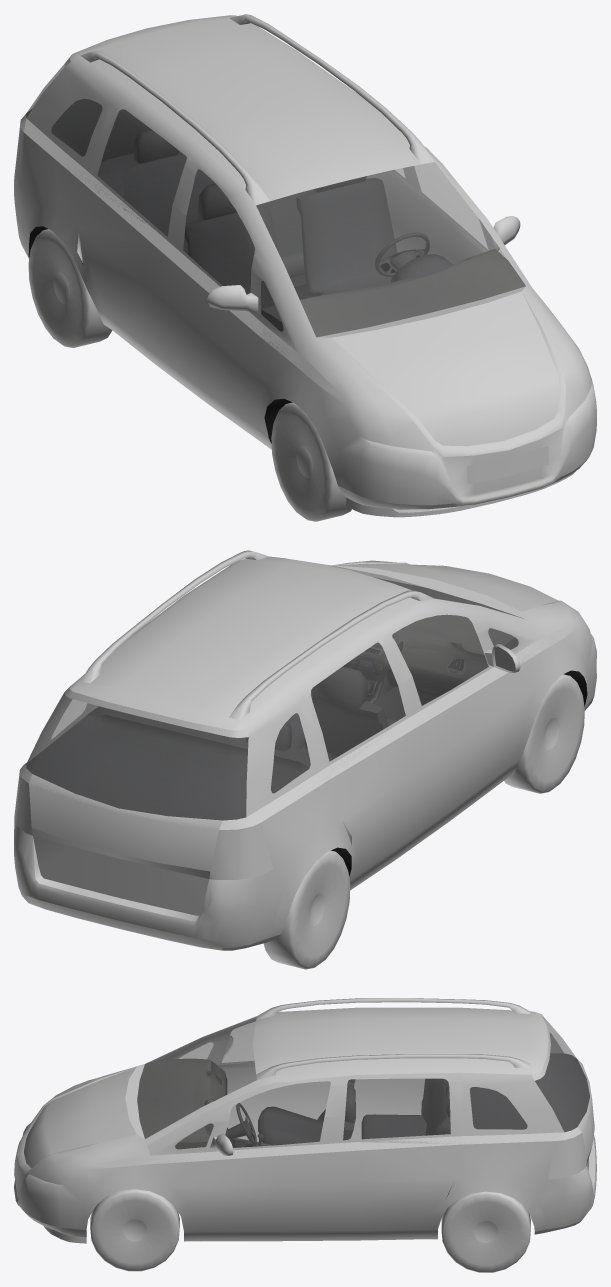
File: OPL_CAR_WHITE.FBX
3 views of the same model, one above another, from view 1: azimuth 30°, elevation 25°; view 2: azimuth 150°, elevation 25°; view 3: azimuth 270°, elevation 25° (orthographic). The views are drawn at different scales.
Parts seen in each view (by area): view 1: OPL_CAR_WHITE, OPL_CAR_WHITE_WHeel_BL, OPL_CAR_WHITE_WHeel_FL, OPL_CAR_WHITE_Steering; view 2: OPL_CAR_WHITE, OPL_CAR_WHITE_WHeel_BL, OPL_CAR_WHITE_WHeel_FL; view 3: OPL_CAR_WHITE, OPL_CAR_WHITE_WHeel_FR, OPL_CAR_WHITE_WHeel_BR, OPL_CAR_WHITE_Steering.
Part boxes in pixels (<box>): OPL_CAR_WHITE: <box>14,14,596,517</box>; OPL_CAR_WHITE_WHeel_BL: <box>28,229,112,347</box>; OPL_CAR_WHITE_WHeel_FL: <box>271,402,351,521</box>; OPL_CAR_WHITE_Steering: <box>374,232,429,276</box>; OPL_CAR_WHITE: <box>14,550,596,950</box>; OPL_CAR_WHITE_WHeel_BL: <box>263,850,350,969</box>; OPL_CAR_WHITE_WHeel_FL: <box>504,674,584,793</box>; OPL_CAR_WHITE: <box>14,998,596,1243</box>; OPL_CAR_WHITE_WHeel_FR: <box>90,1189,179,1271</box>; OPL_CAR_WHITE_WHeel_BR: <box>441,1191,530,1272</box>; OPL_CAR_WHITE_Steering: <box>236,1103,256,1144</box>.
Size of the model in its own units: 2.31 by 1.91 by 5.06.
